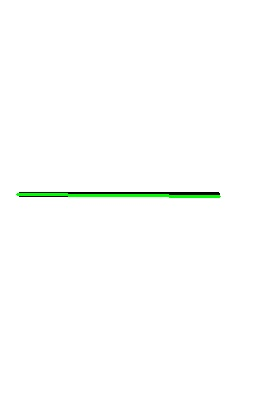line_segment: (17, 191, 220, 198)
